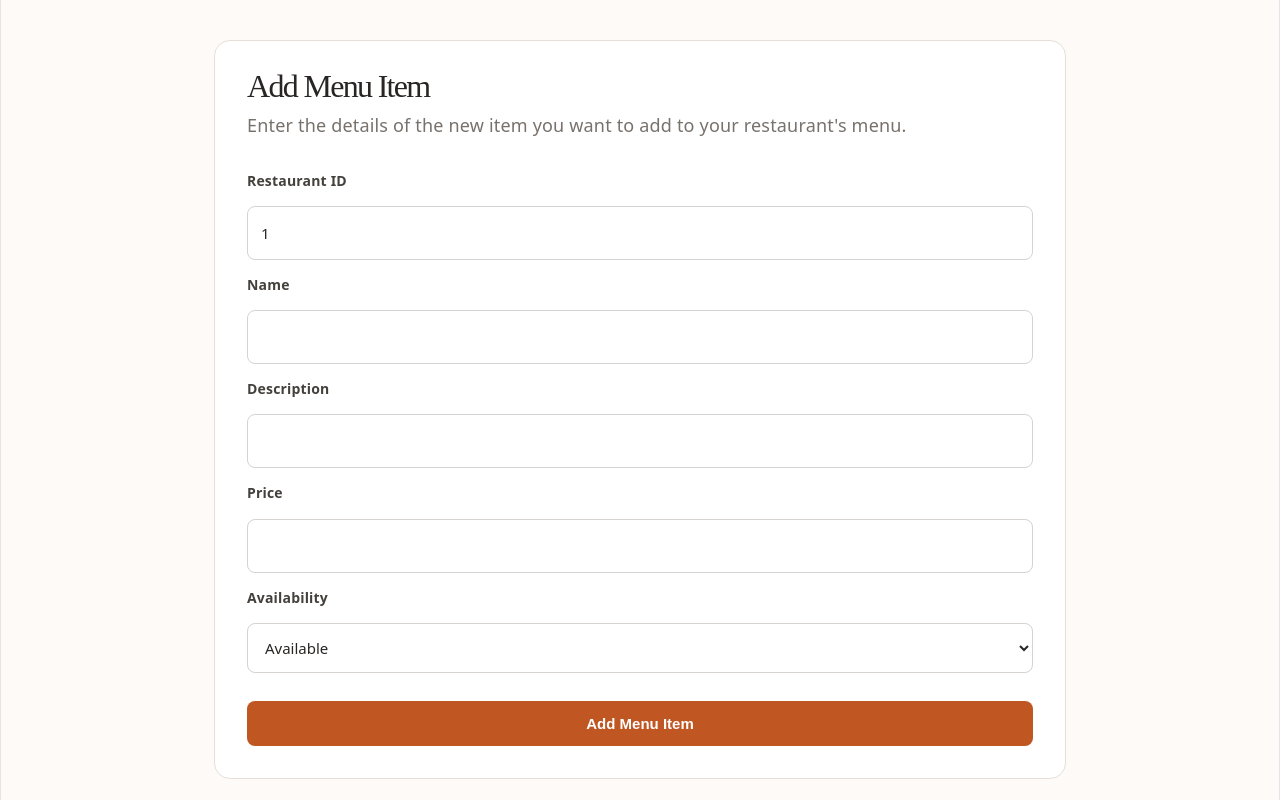
Test case: shows an error for invalid input
Click the button "Add Menu Item". click: (640, 723)
box: x1=247 y1=701 x2=1033 y2=746
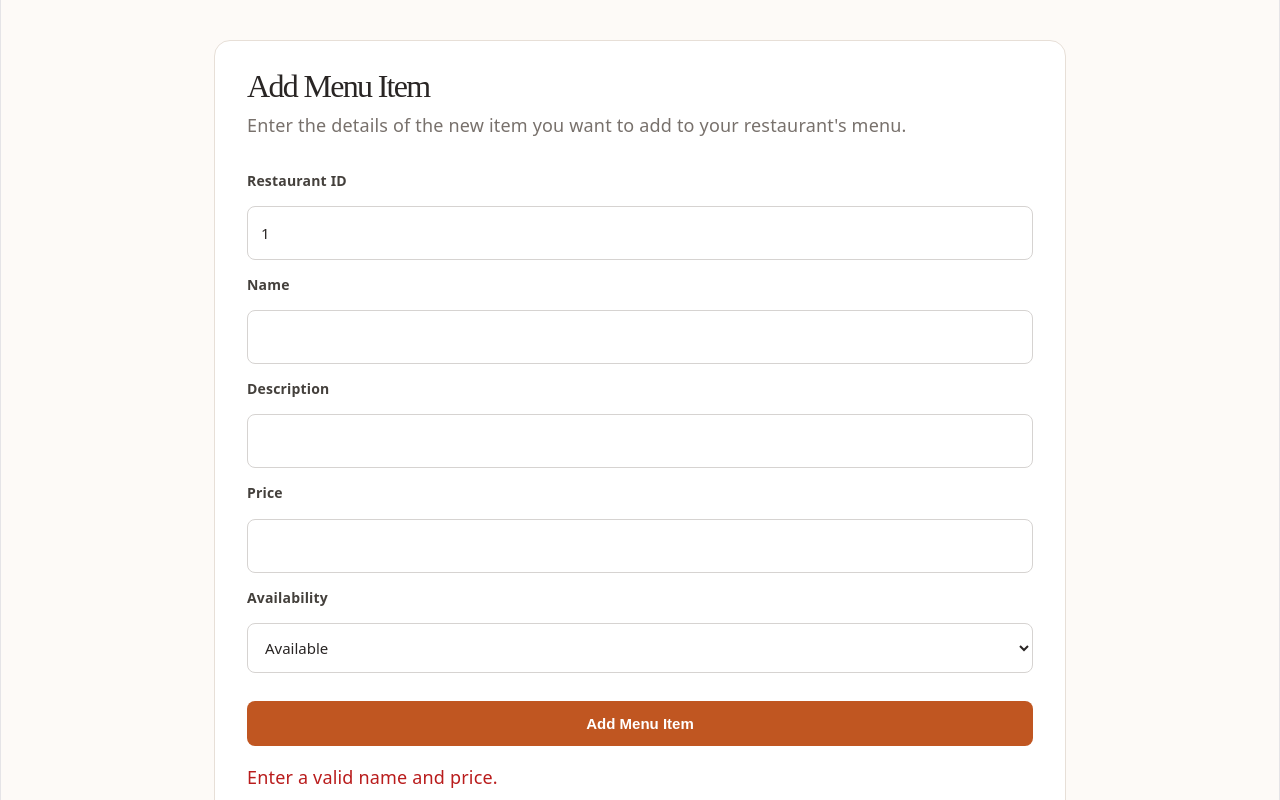
Expected: the message reads "Enter a valid name and price.", x1=247 y1=765 x2=498 y2=789
